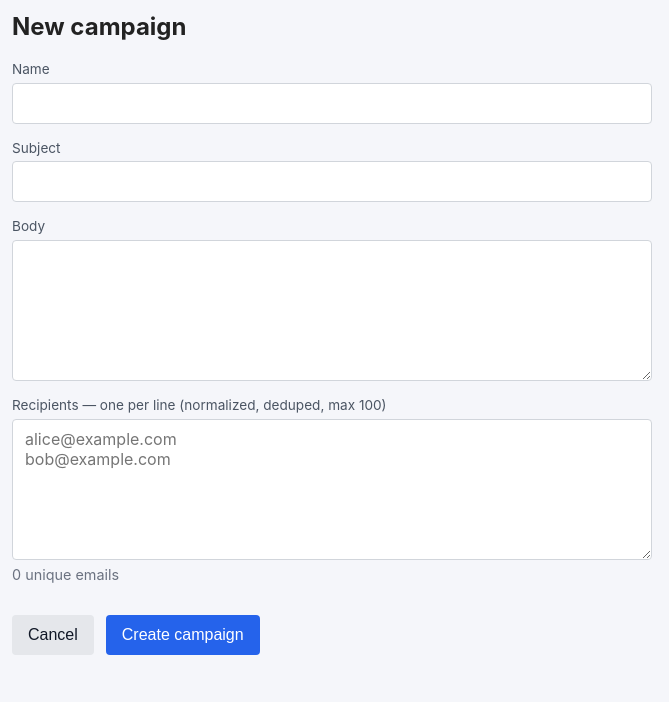
it: CampaignNewPage — create campaign flow › blocks submission client-side when required fields are empty
Click the button "Create campaign". click: (183, 635)
box: [106,615,260,655]
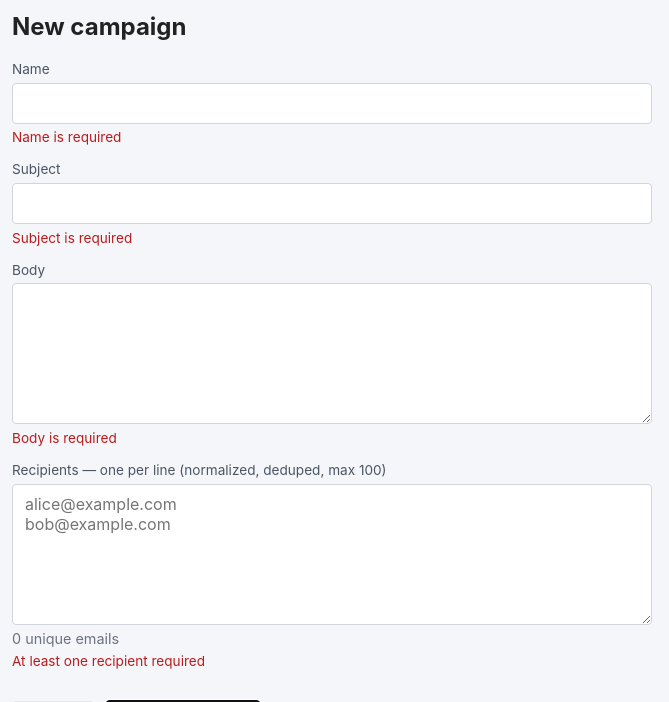
Check: the text "Name is required" is shown, box [12,129,121,145]
Check: the text "Subject is required" is shown, box [12,230,132,246]
Check: the text "Body is required" is shown, box [12,430,117,446]
